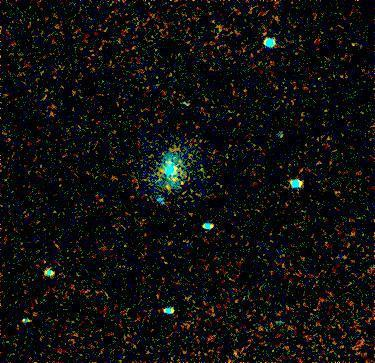star: (167, 169, 197, 199)
